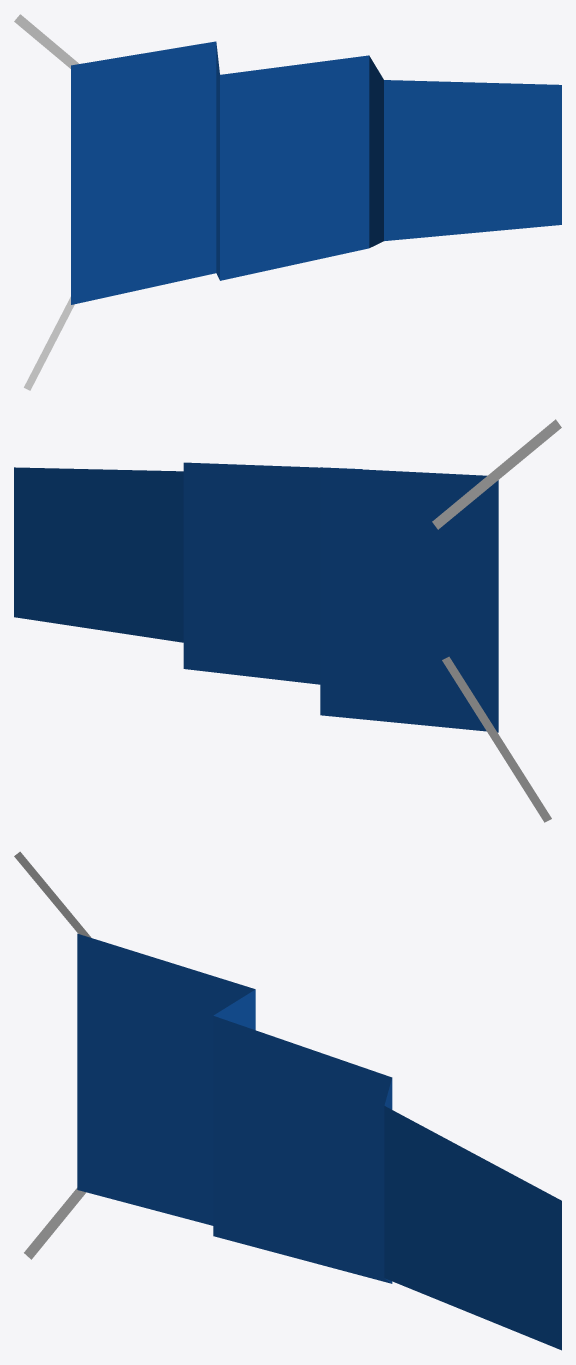
The model's file is Flag_Blue.fbx.
The picture shows the model from 3 angles, top to bottom: view 1: azimuth 30°, elevation 25°; view 2: azimuth 150°, elevation 25°; view 3: azimuth 330°, elevation 25°; orthographic projection. The views are drawn at different scales.
Parts seen in each view (by area): view 1: Flag_Blue; view 2: Flag_Blue; view 3: Flag_Blue.
Boxes of the visible parts, x1,y1,x2,y2 form: Flag_Blue: (14,14,561,390); Flag_Blue: (14,419,561,822); Flag_Blue: (14,851,561,1350).
Bounding box in the file's own units: 110 × 75.05 × 10.64.
